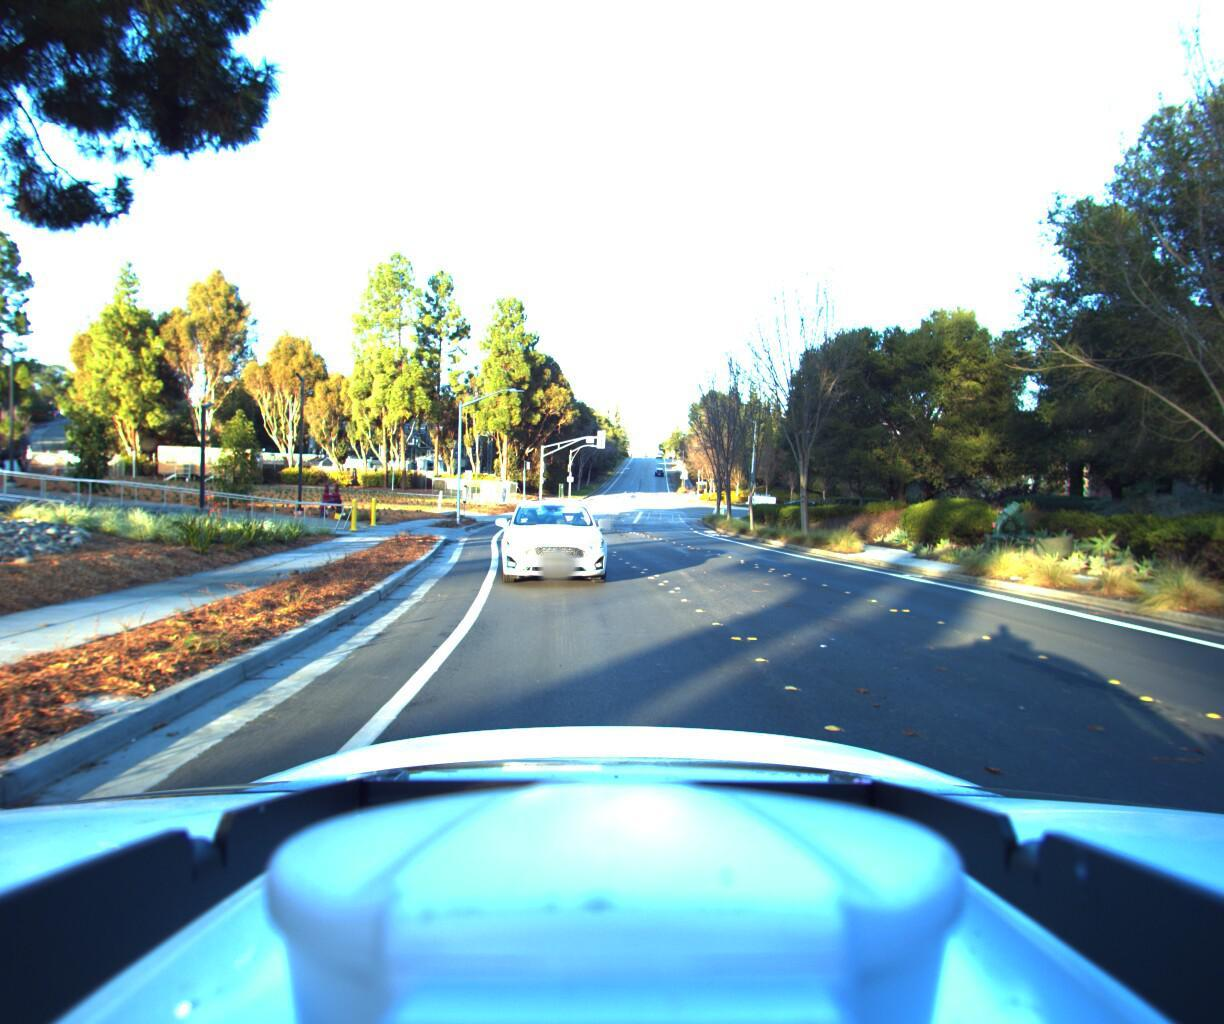car: (483, 487, 618, 606)
